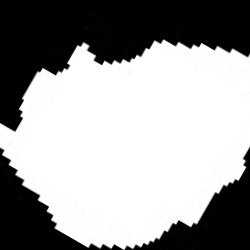spot: (1, 40, 248, 247)
